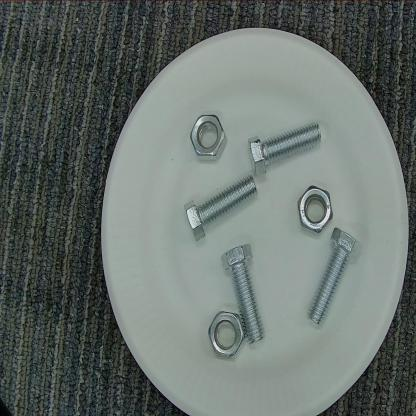FOD: (303, 225, 359, 329), (182, 173, 259, 244), (219, 244, 270, 348), (246, 119, 325, 178), (190, 110, 229, 163), (208, 309, 245, 362), (297, 184, 332, 235)
